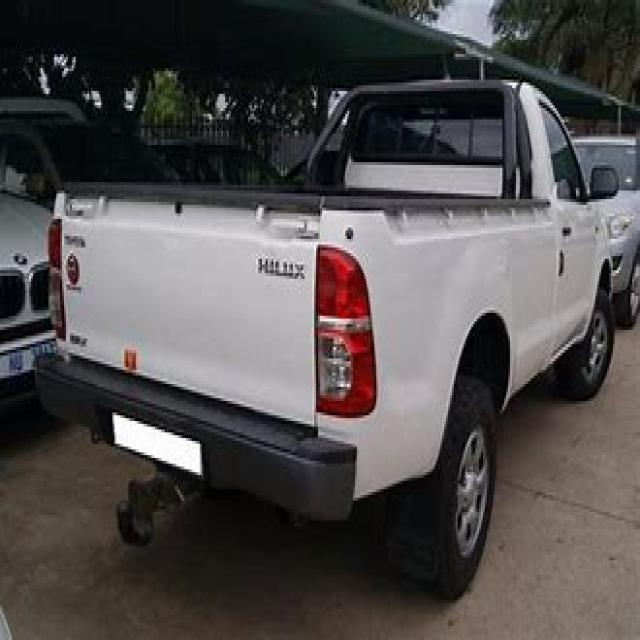light_vehicle: (41, 48, 626, 594)
